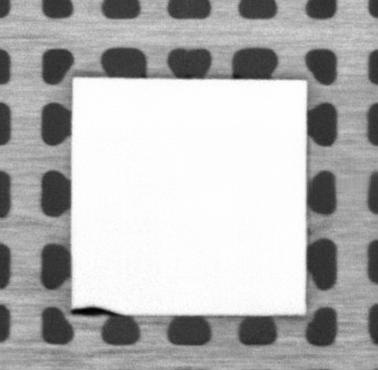DIE_BROKEN: (69, 304, 124, 316)
